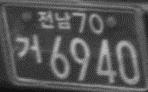0: (115, 39, 140, 86), (88, 11, 104, 35)
4: (94, 37, 118, 84)
6: (48, 35, 71, 80)
7: (71, 10, 87, 35)
9: (69, 36, 91, 84)
거: (15, 34, 42, 65)
전남_O: (36, 8, 71, 30)
